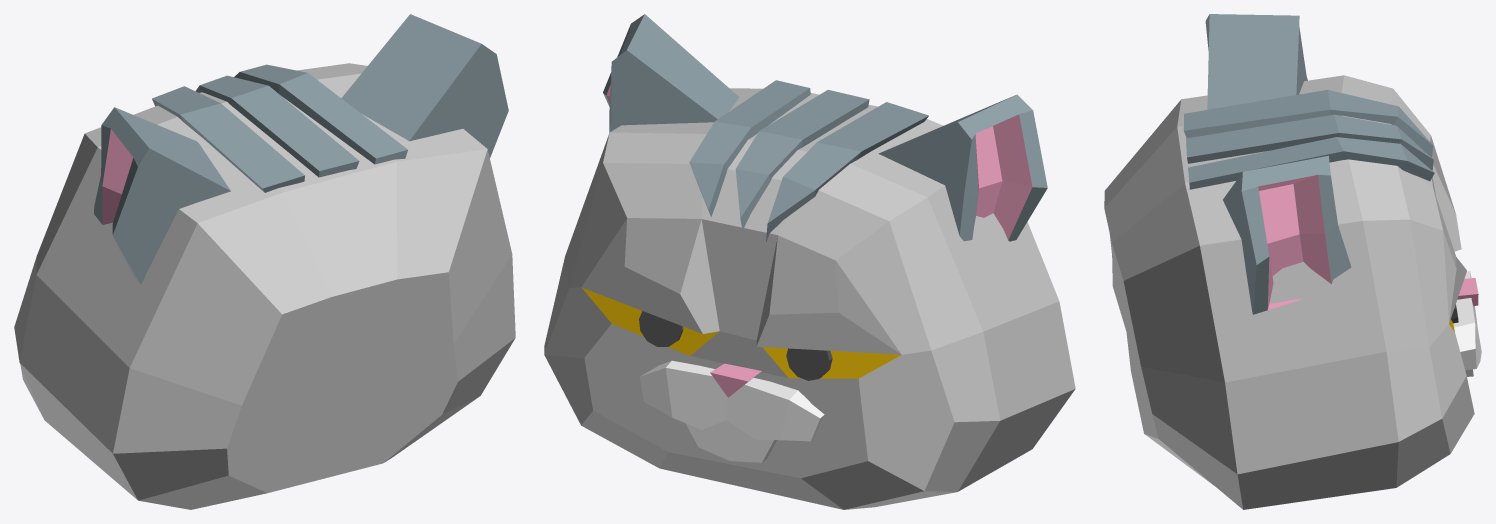
Rendered from cat.fbx.
The picture shows the model from 3 angles, left to right: view 1: azimuth 30°, elevation 25°; view 2: azimuth 150°, elevation 25°; view 3: azimuth 270°, elevation 25°; orthographic projection. The views are drawn at different scales.
Visible parts, largest first — view 1: asset; view 2: asset; view 3: asset.
Boxes of the visible parts, left/top/right/bottom form: asset: left=14, top=14, right=515, bottom=509; asset: left=544, top=14, right=1075, bottom=509; asset: left=1104, top=14, right=1481, bottom=509.
Bounding box in the file's own units: 31.7 × 26.51 × 24.46.
